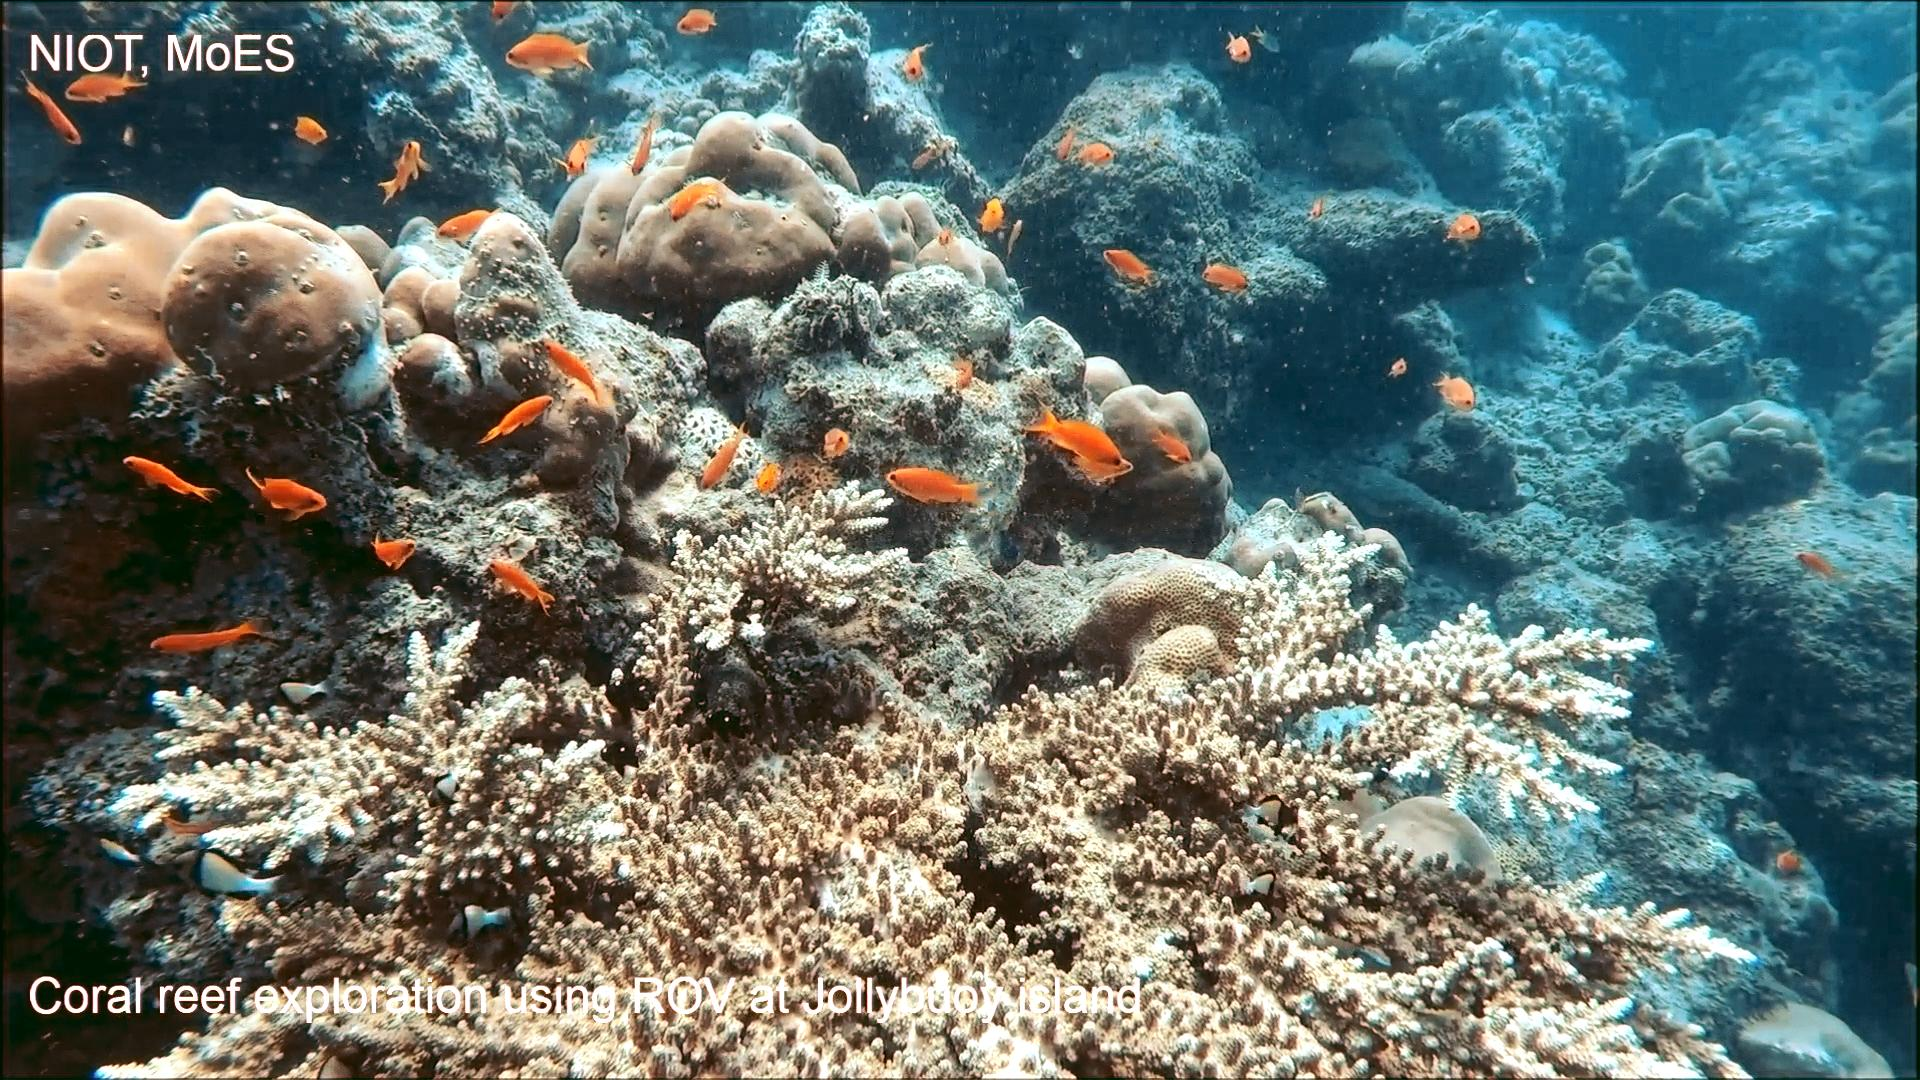Porites-Porites pukoensis: (0, 182, 386, 446), (544, 104, 891, 293)
